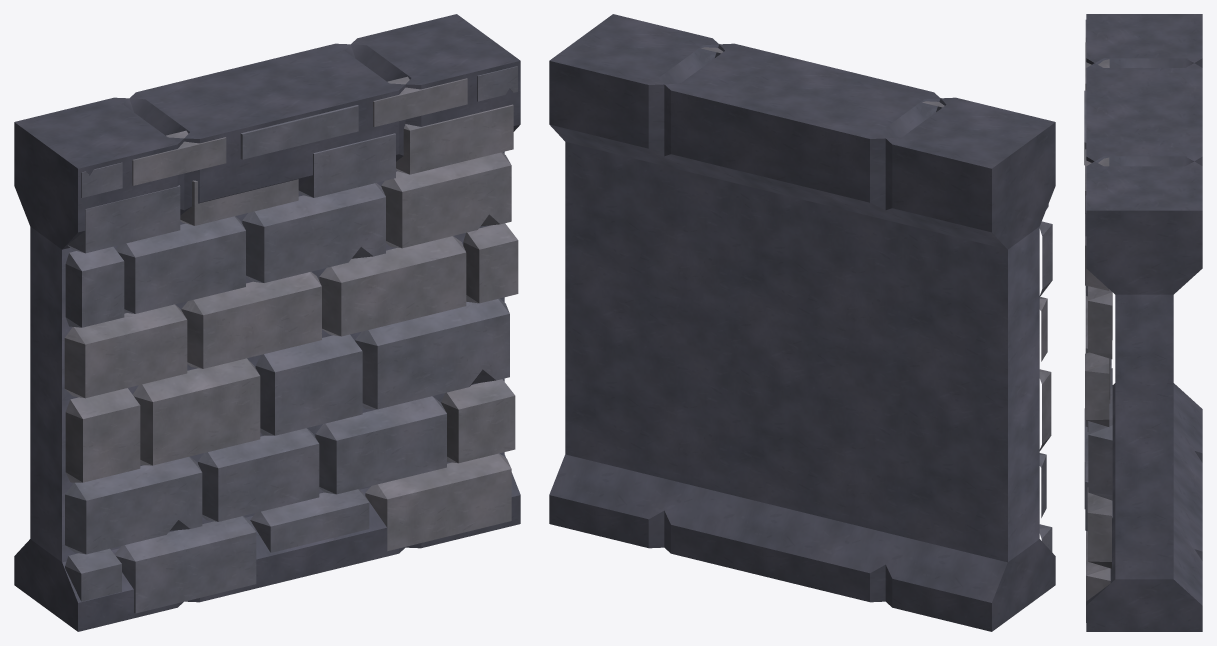
The model's file is wall_cracked.gltf.
3 renders of one model, left to right at view 1: azimuth 30°, elevation 25°; view 2: azimuth 150°, elevation 25°; view 3: azimuth 270°, elevation 25°, orthographic. The views are drawn at different scales.
Visible parts, largest first — view 1: wall_cracked; view 2: wall_cracked; view 3: wall_cracked.
Boxes of the visible parts, x1,y1,x2,y2 form: wall_cracked: (14, 14, 520, 631); wall_cracked: (549, 14, 1055, 631); wall_cracked: (1084, 14, 1202, 631).
Size of the model in its own units: 4 by 4.02 by 1.02.
Materials: 4 (4 with a texture image).
